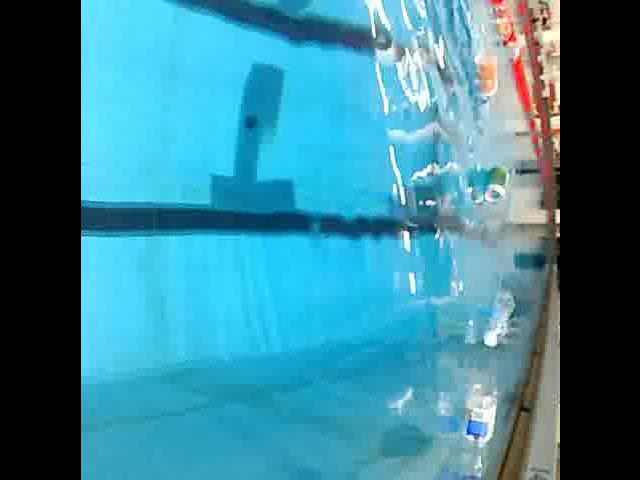Bottle: (455, 372, 501, 480), (479, 288, 515, 352), (471, 42, 499, 110)
Can: (478, 163, 512, 205)
